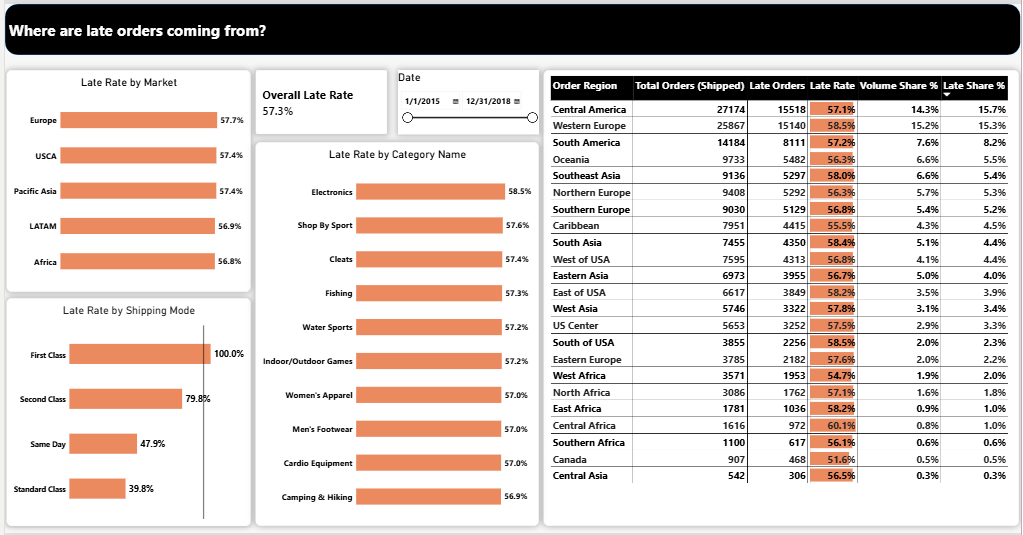

Layout of this report page (visuals, bound fields, positions):
{"tool":"powerbi","page":{"name":"Root Cause","canvas":[2500,1300],"ordinal":1},"visuals":[{"type":"shape","box":[0,0,2498.8,125.5],"z":0},{"type":"clusteredBarChart","title":"Late Rate by Shipping Mode","fields":{"Category":["Supply Chain dataa.Shipping Mode"],"Y":["Table.Late Rate"]},"box":[3.7,723.4,601.6,561],"z":1},{"type":"clusteredBarChart","fields":{"Category":["Supply Chain dataa.Market"],"Y":["Table.Late Rate"]},"box":[3.7,162.4,601.6,546.3],"z":2},{"type":"tableEx","fields":{"Values":["Supply Chain data.Order Region","Table.Total Orders (Shipped)","Table.Late Orders","Table.Late Rate","Table.Volume Share %","Table.Late Share %"]},"box":[1325.1,162.4,1170,1122.1],"z":3},{"type":"cardVisual","fields":{"Data":["Table.Overall Late Rate"]},"box":[616.4,162.4,324.8,158.7],"z":4},{"type":"slicer","title":"Date","fields":{"Values":["DateTable.Date"]},"box":[967,162.4,347,158.7],"z":5},{"type":"clusteredBarChart","fields":{"Category":["Supply Chain data.Category Name"],"Y":["Table.Late Rate"]},"box":[616.4,339.6,697.6,944.9],"z":6}]}

Visuals, with their boxes in screenshot pixels (x1, y1, x2, y2), scaled from the page's 2500x1300 canvas onto the 1023x535 screenshot:
shape: bbox(0, 0, 1022, 52)
"Late Rate by Shipping Mode" clusteredBarChart: bbox(2, 298, 248, 529)
clusteredBarChart - Supply Chain dataa.Market x Table.Late Rate: bbox(2, 67, 248, 292)
tableEx - Supply Chain data.Order Region x Table.Total Orders (Shipped): bbox(542, 67, 1021, 529)
cardVisual - Table.Overall Late Rate: bbox(252, 67, 385, 132)
"Date" slicer: bbox(396, 67, 538, 132)
clusteredBarChart - Supply Chain data.Category Name x Table.Late Rate: bbox(252, 140, 538, 529)
